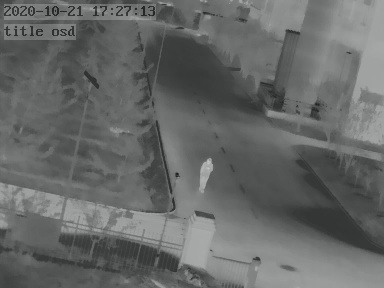person: (197, 157, 213, 192)
